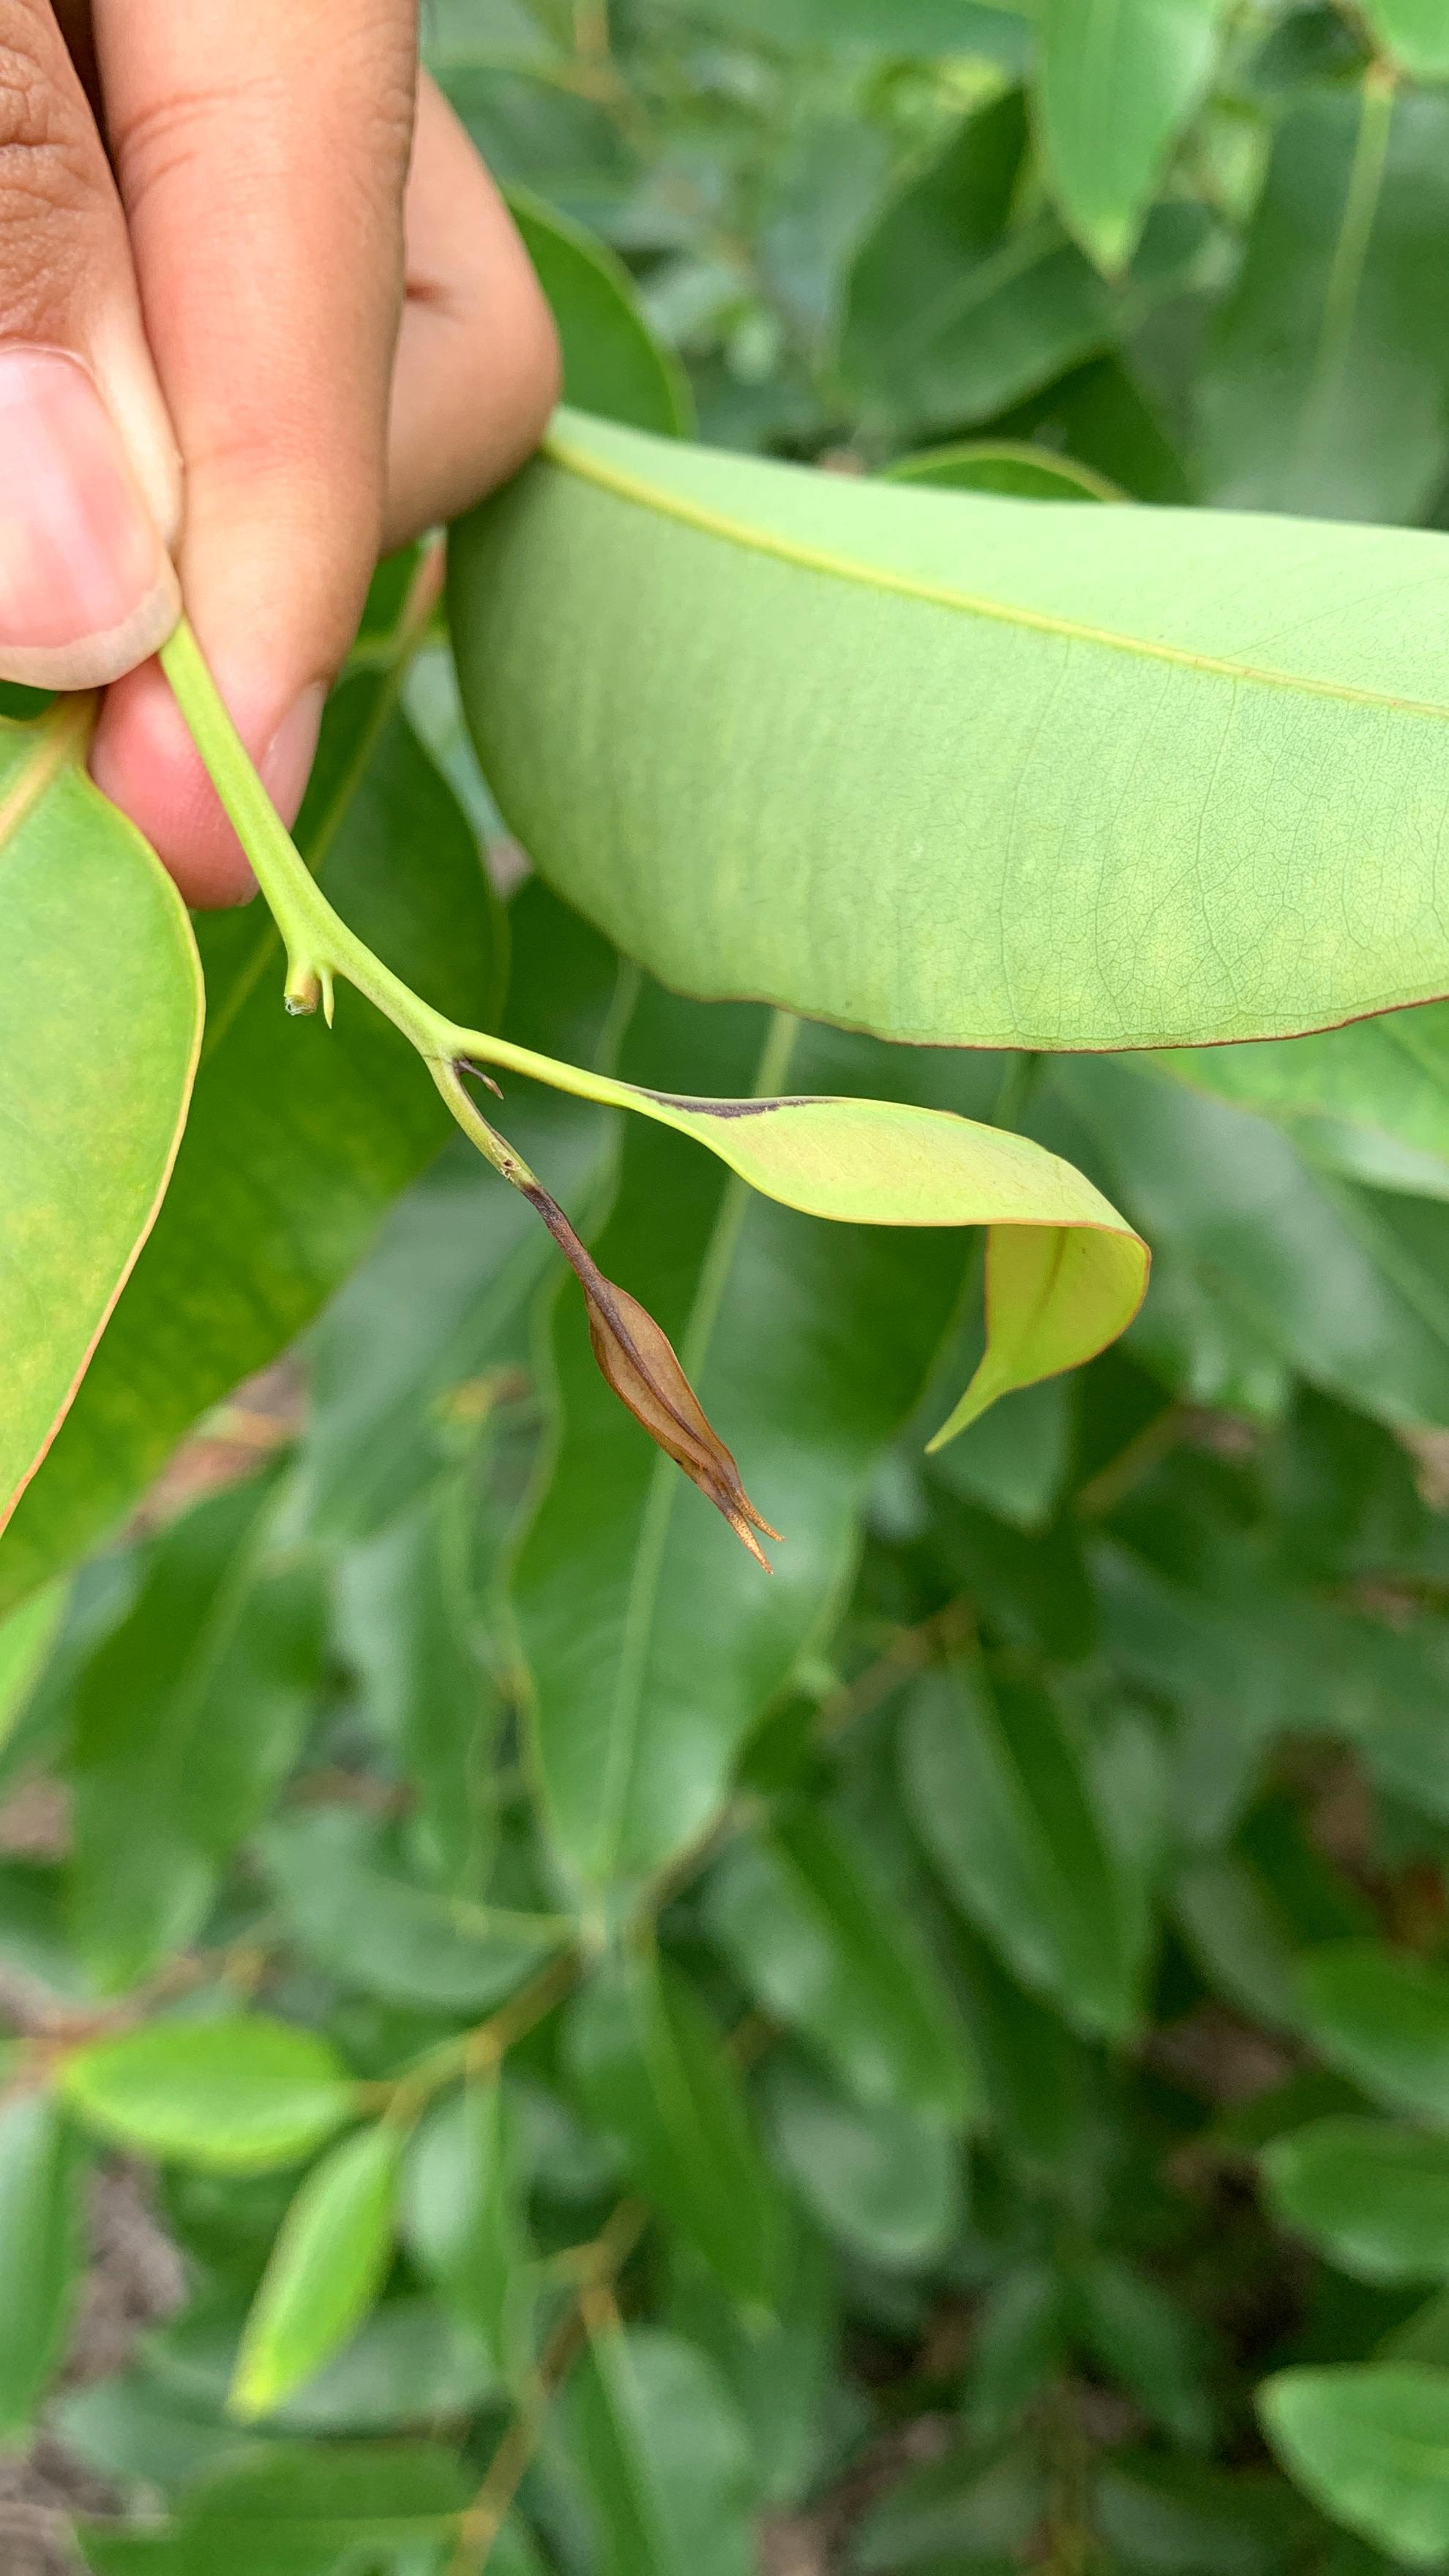Helopeltis-Withered Sprout: (499, 1166, 810, 1589)
